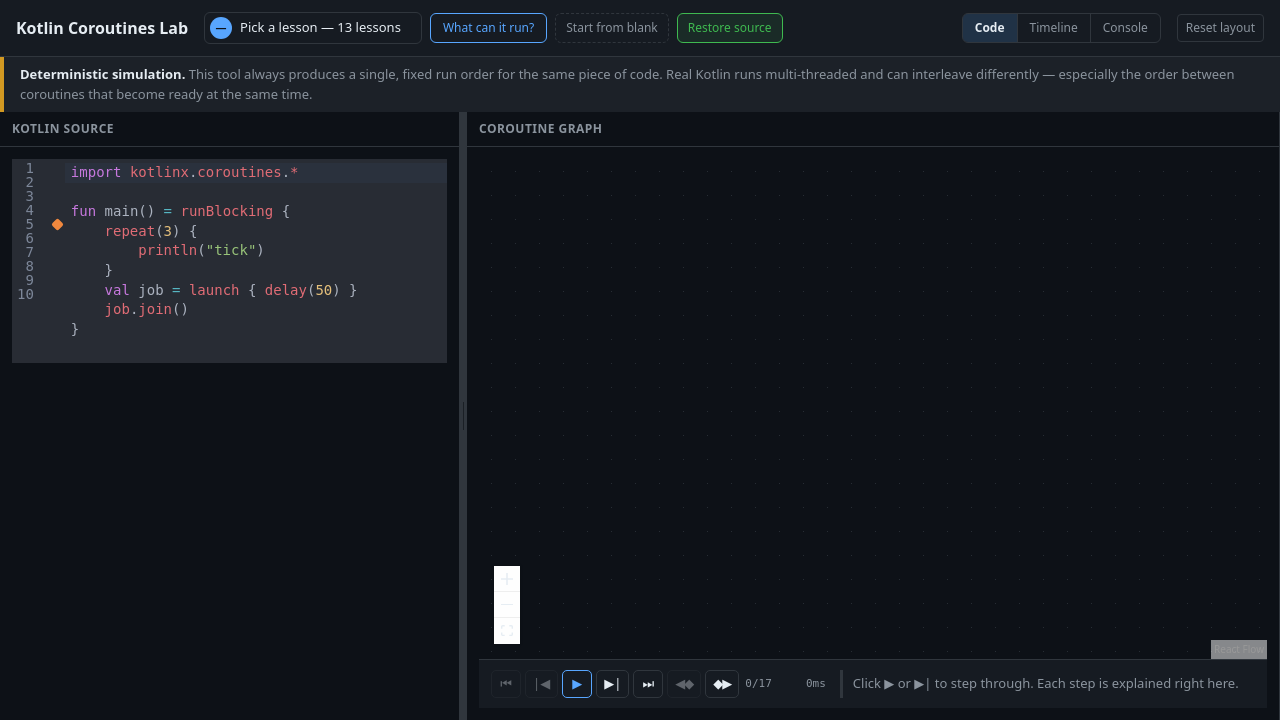
it: breakpoints in the editor › a line inside a loop stops once per pass, then reports nothing ahead
Click the button named "Run to next breakpoint". click: click(722, 684)
box: [705,670,739,698]
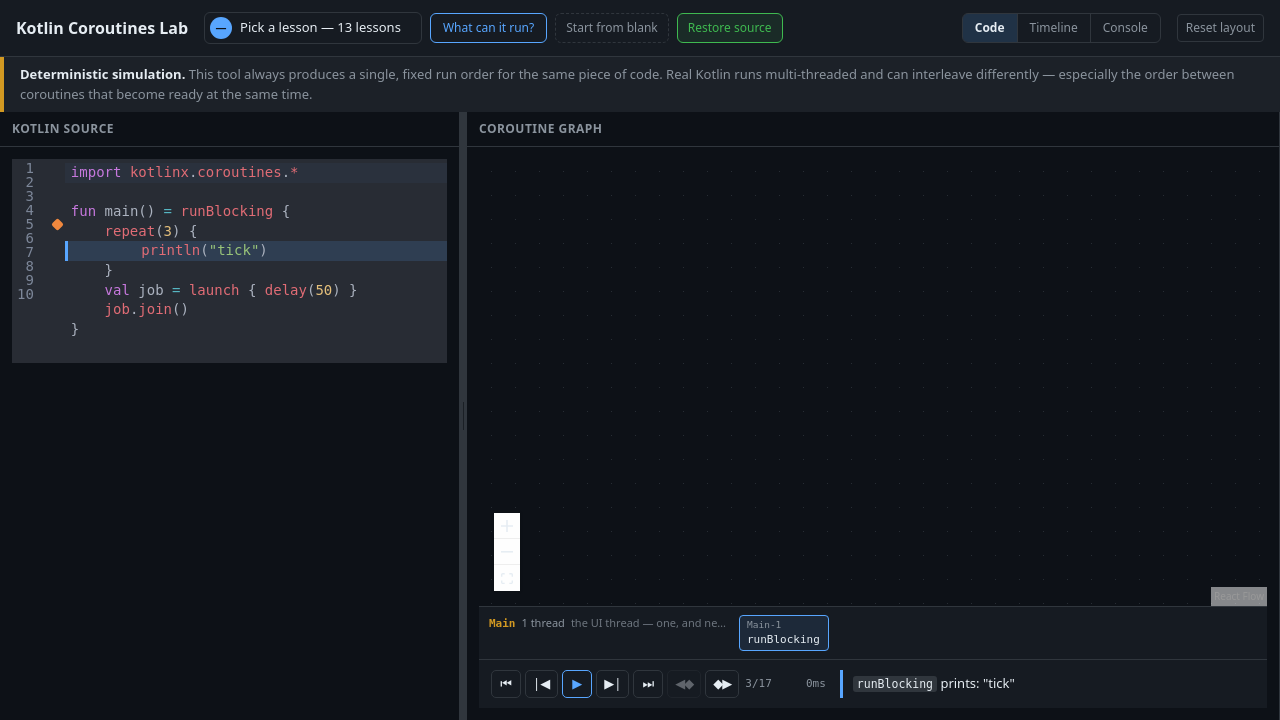
Click the button named "Run to next breakpoint". click: click(722, 684)
box: [705,670,739,698]
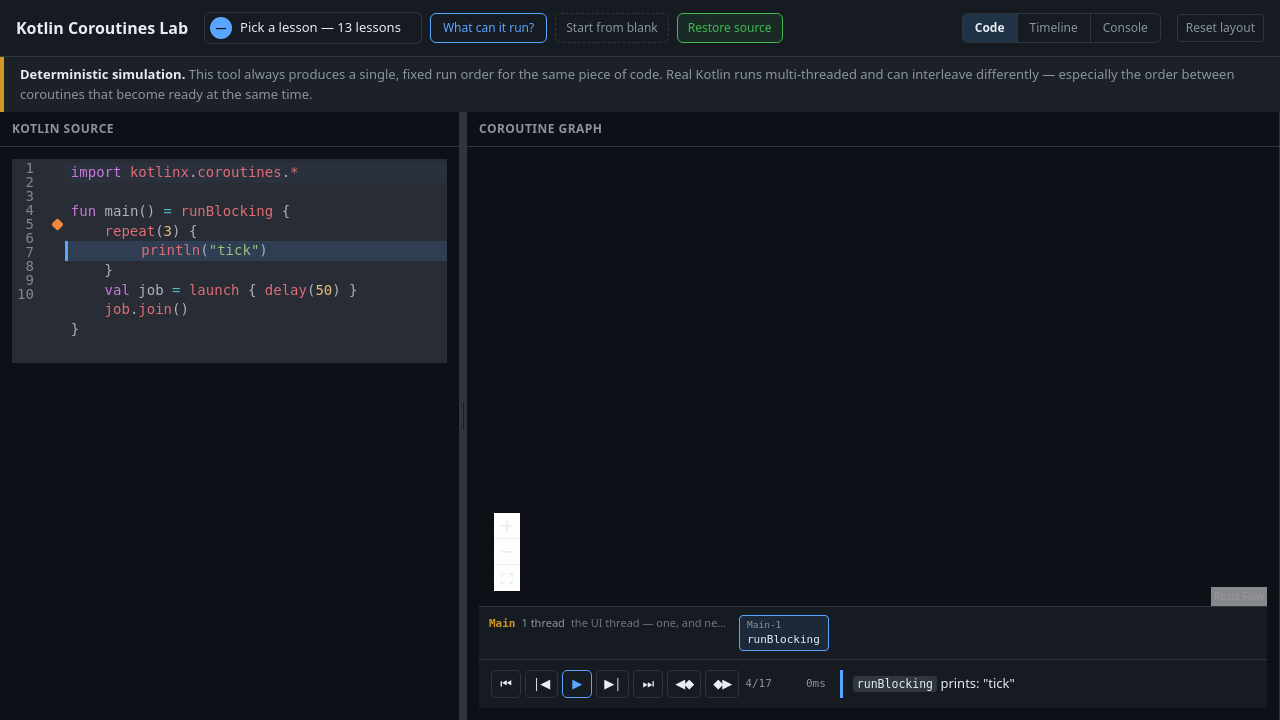
Click the button named "Run to next breakpoint". click: click(722, 684)
box: [705,670,739,698]
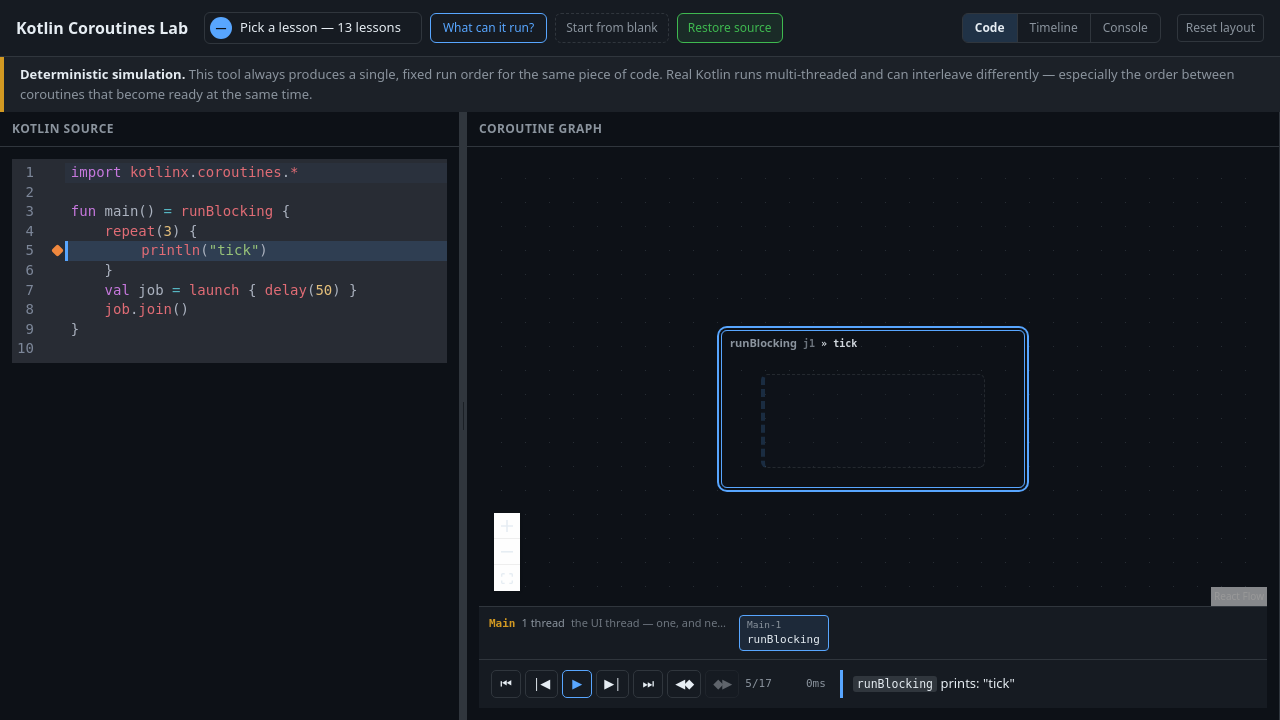
expect the button named "Run to next breakpoint" is disabled: met, box [705,670,739,698]
